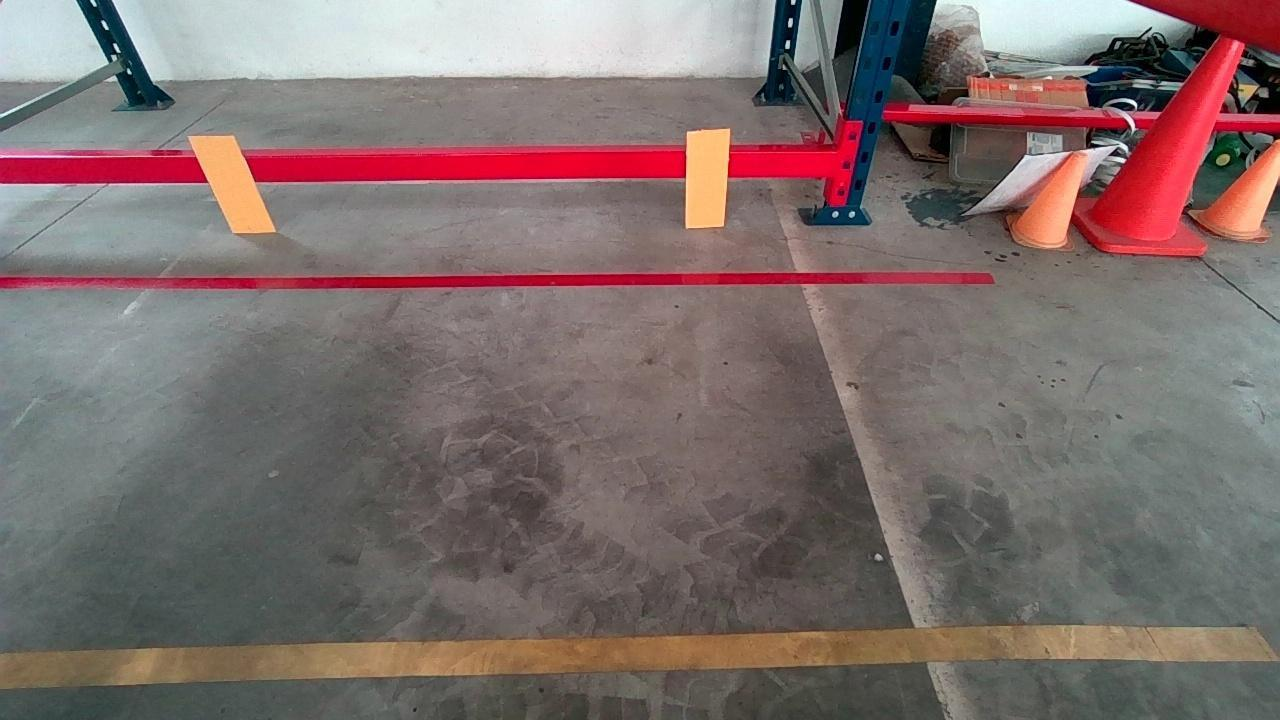h_rack: (4, 137, 835, 188)
orange_strip: (188, 135, 276, 232), (685, 130, 729, 226)
red_line: (9, 259, 987, 300)
yellow_line: (0, 617, 1280, 693)
